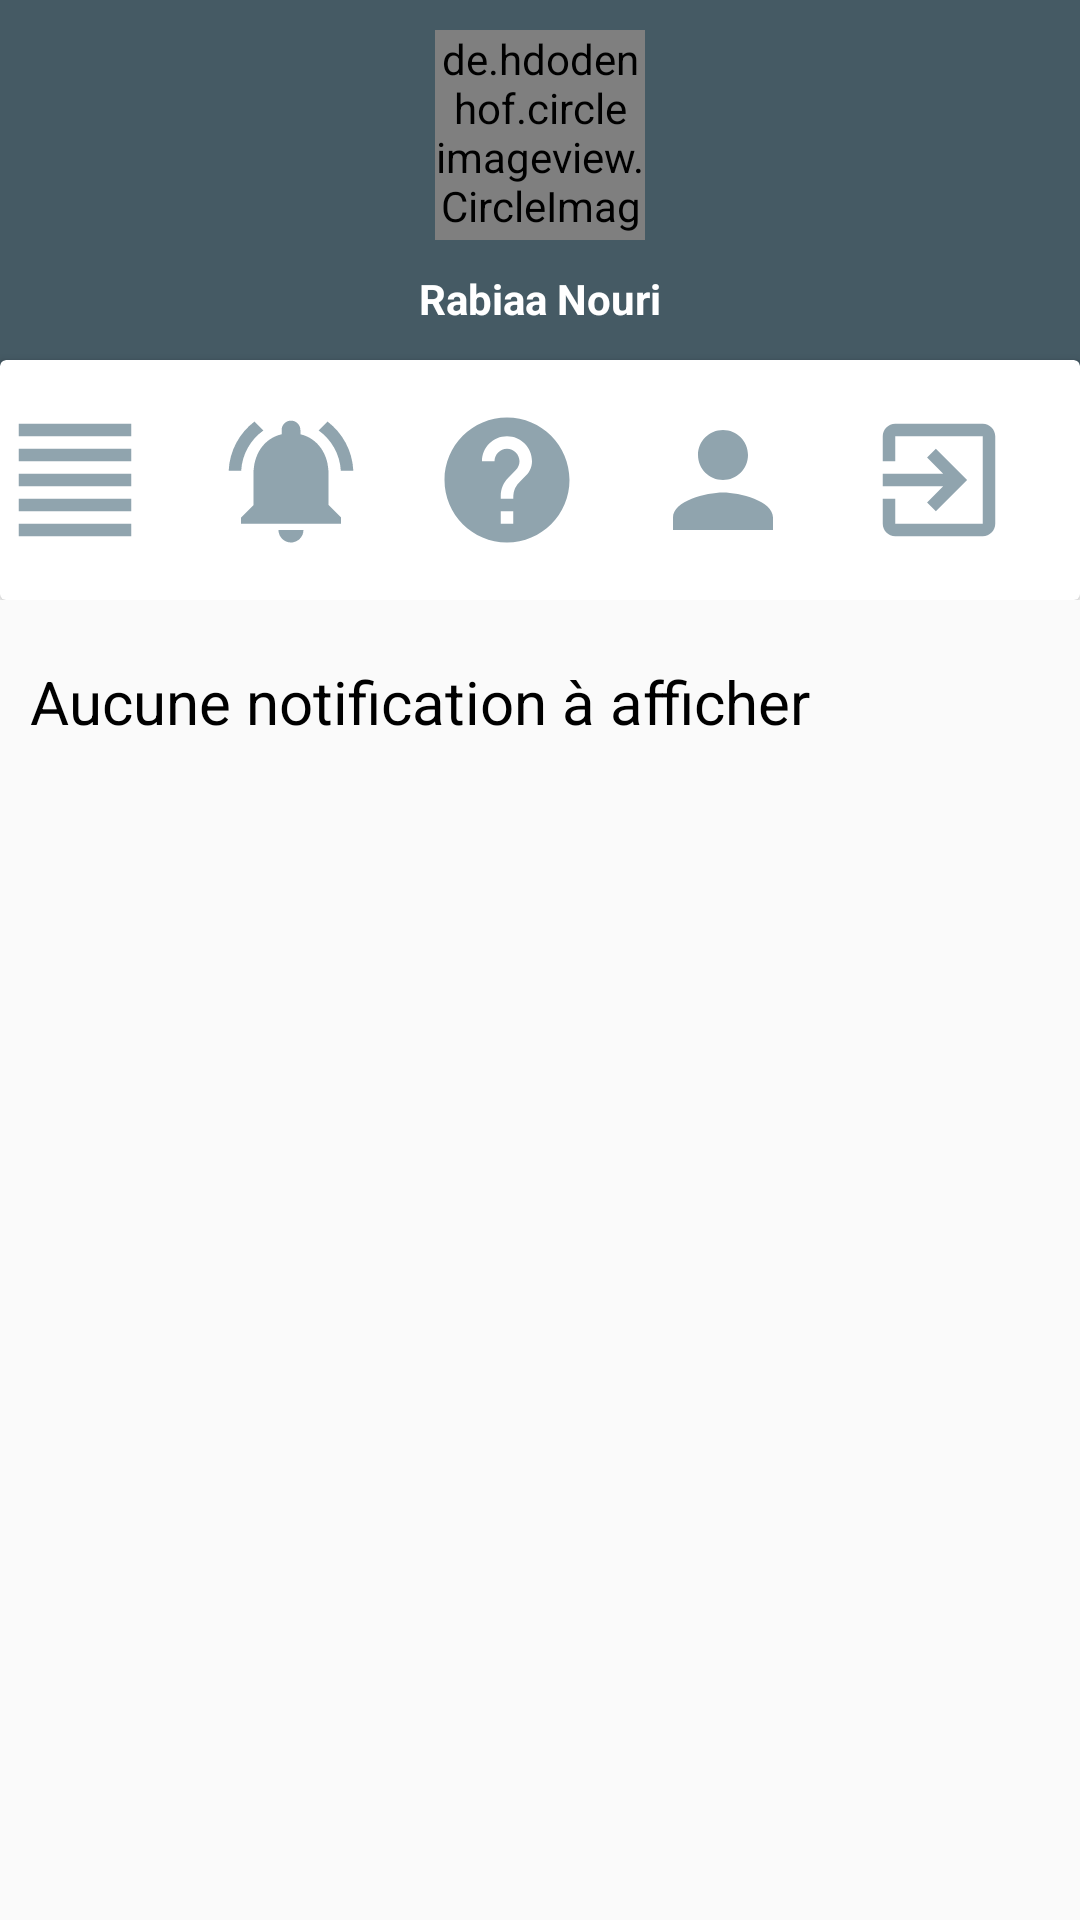

Where icons sit on this 1080*1920 app screen, as (x1, y1, x2, y2):
exit: (882, 423, 996, 537)
help: (444, 417, 570, 543)
menus: (0, 423, 132, 600)
notifications: (228, 420, 354, 543)
person: (673, 430, 773, 530)
